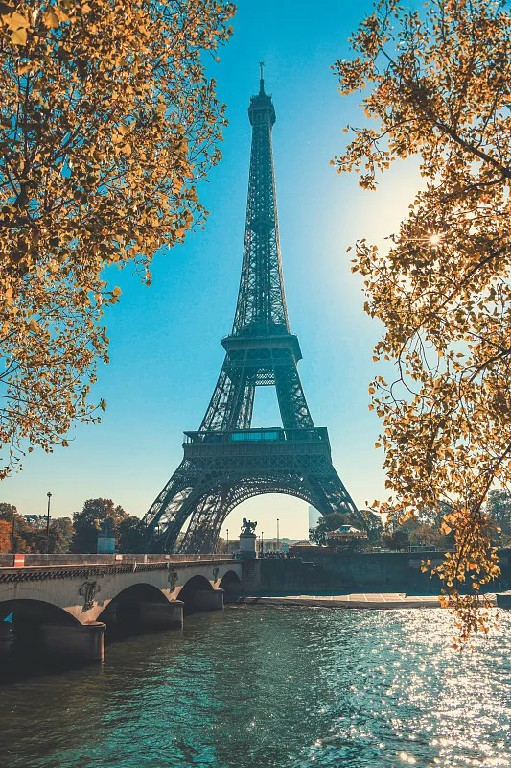Eiffel: (136, 62, 365, 546)
